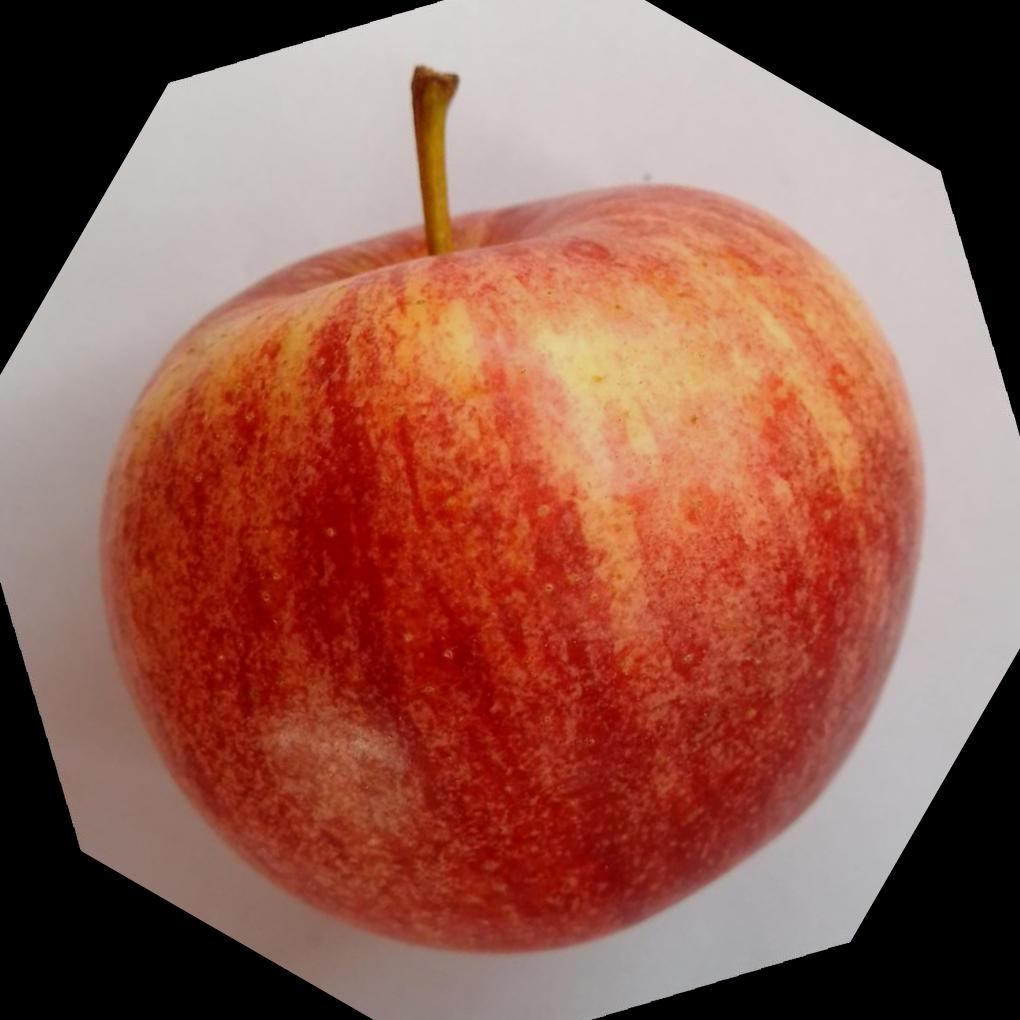FreshGuava: (96, 182, 927, 962)
